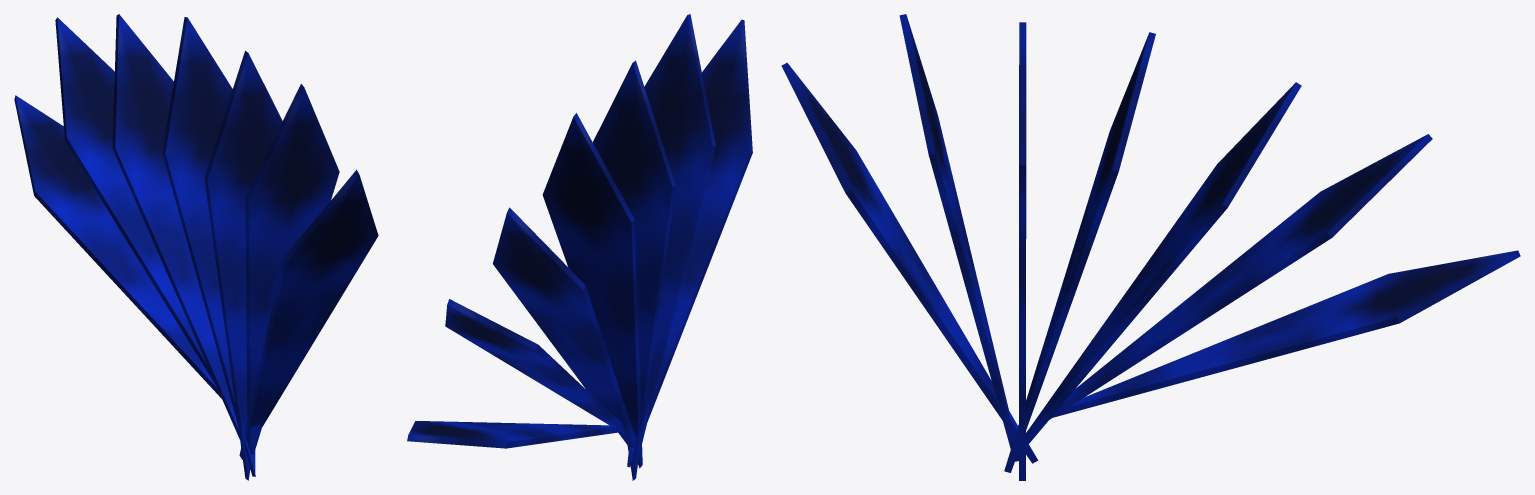
File: feather_04.dae
The picture shows the model from 3 angles, left to right: view 1: azimuth 30°, elevation 25°; view 2: azimuth 150°, elevation 25°; view 3: azimuth 270°, elevation 25°; orthographic projection. The views are drawn at different scales.
Parts seen in each view (by area): view 1: a_feather_04; view 2: a_feather_04; view 3: a_feather_04.
Part boxes in pixels (bbox=[...]): a_feather_04: bbox=[14, 14, 378, 480]; a_feather_04: bbox=[407, 14, 752, 480]; a_feather_04: bbox=[781, 14, 1520, 480].
Size of the model in its own units: 0.1589 by 1.06 by 0.7364.
